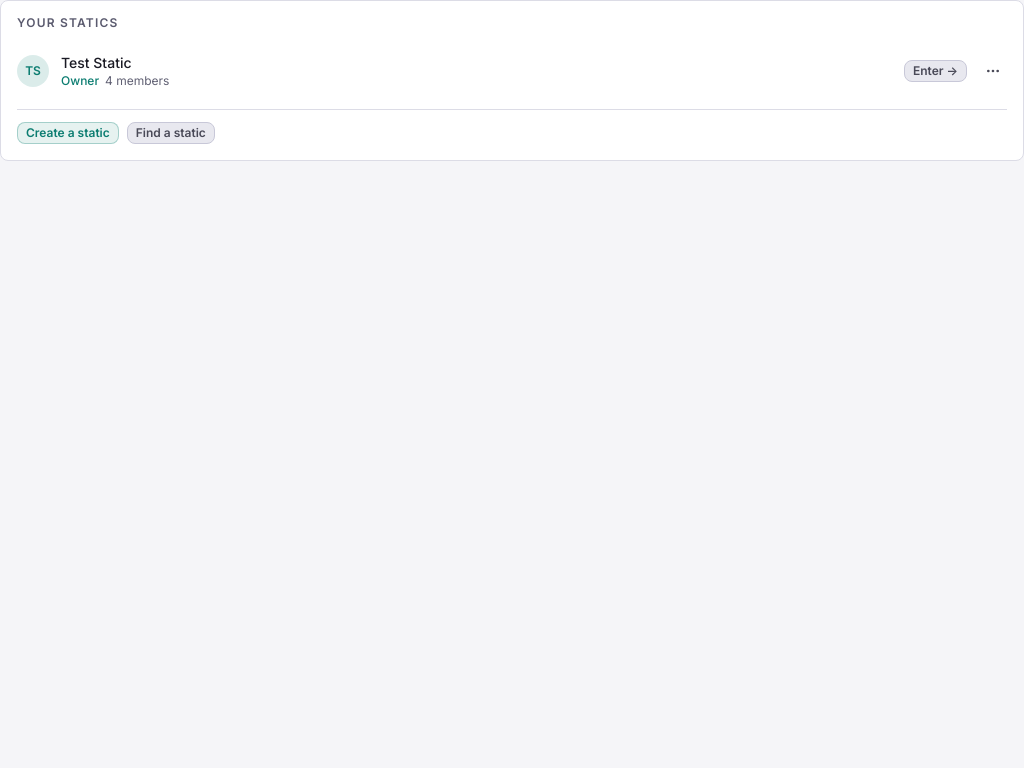
Test: YourStaticsCard — delete confirm › delete confirm button is disabled until exact name typed
The image size is (1024, 768).
Press Enter in the button named "actions for test static", box [979,57,1007,85]
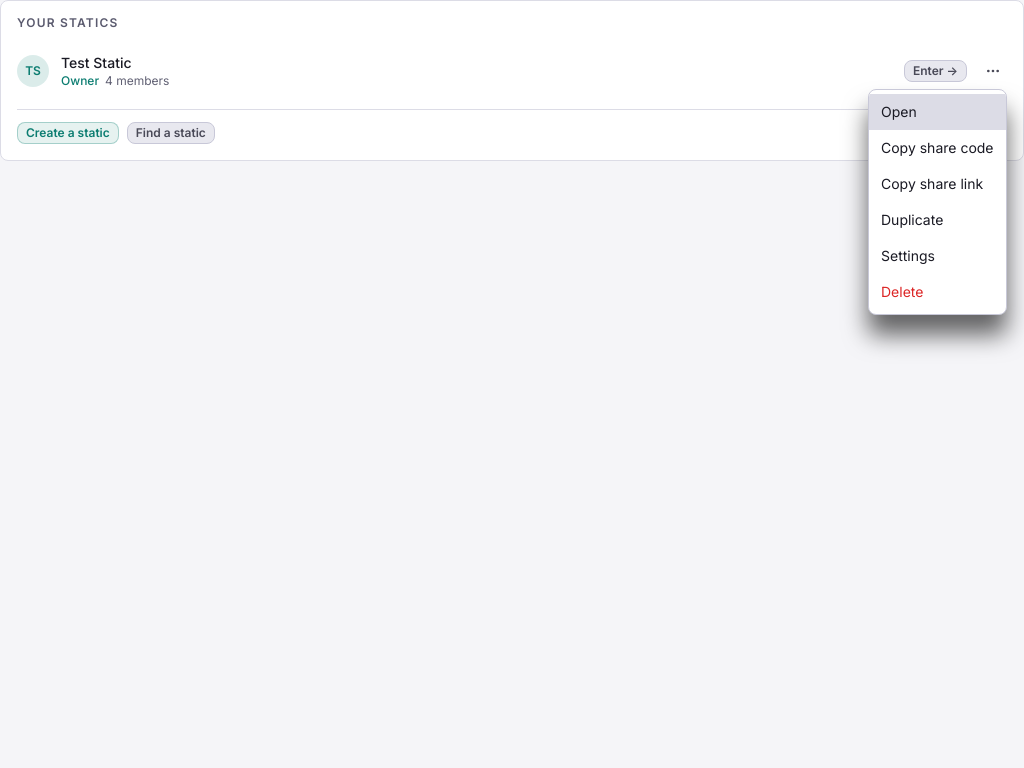
Click the menu item "Delete".
click(902, 292)  # box [881,283,923,300]
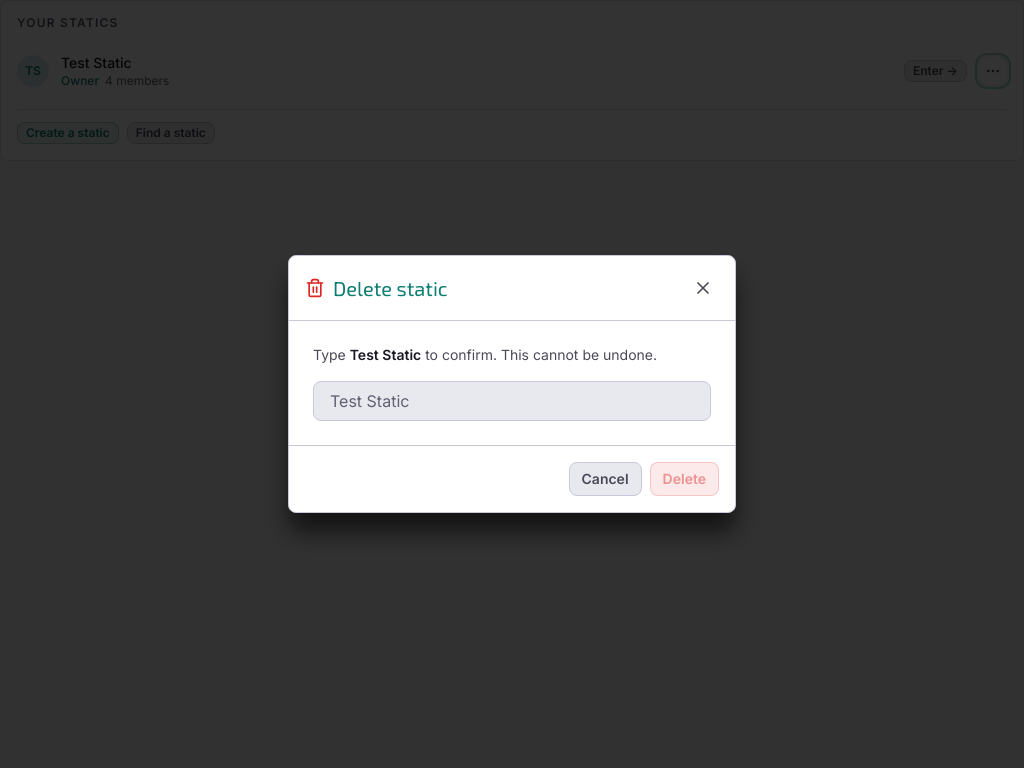
Check: the button "Delete" is disabled, box [650,462,719,496]
Note: Partial name — stays disabled
Type "Test" into the field named "confirm static name".
click(512, 401); type("Test")  # box [313,381,711,421]
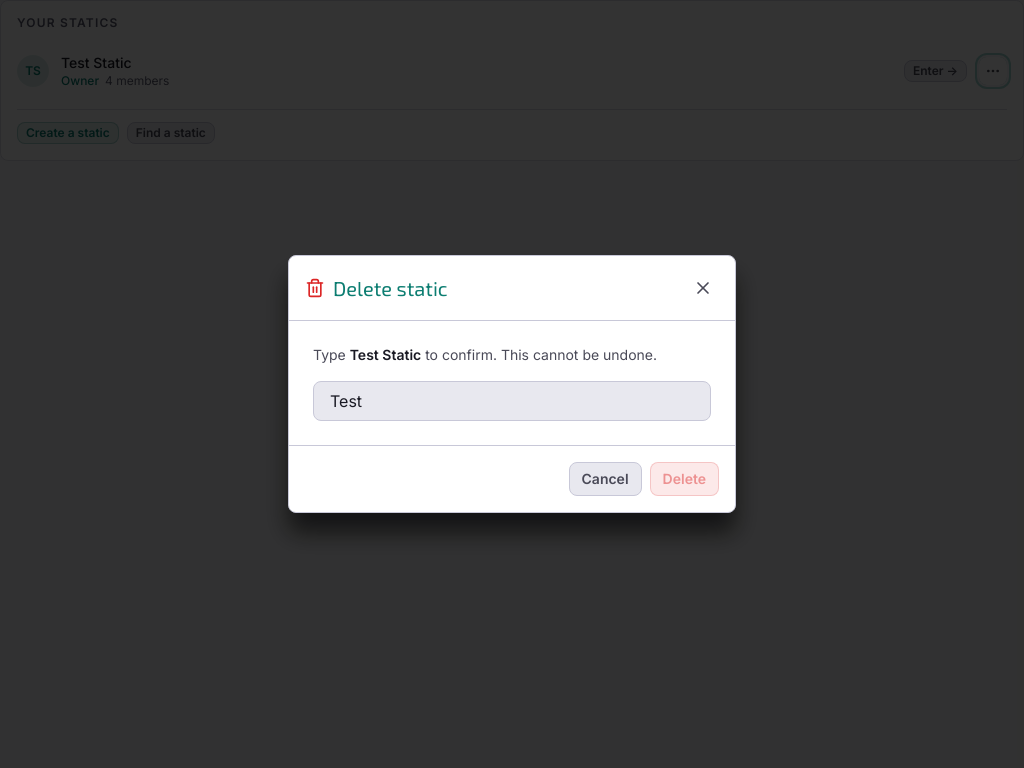
Check: the button "Delete" is disabled, box [650,462,719,496]
Note: Exact name — becomes enabled
Replace the text in the field named "confirm static name" with "Test Static" at (512, 401), box [313,381,711,421]
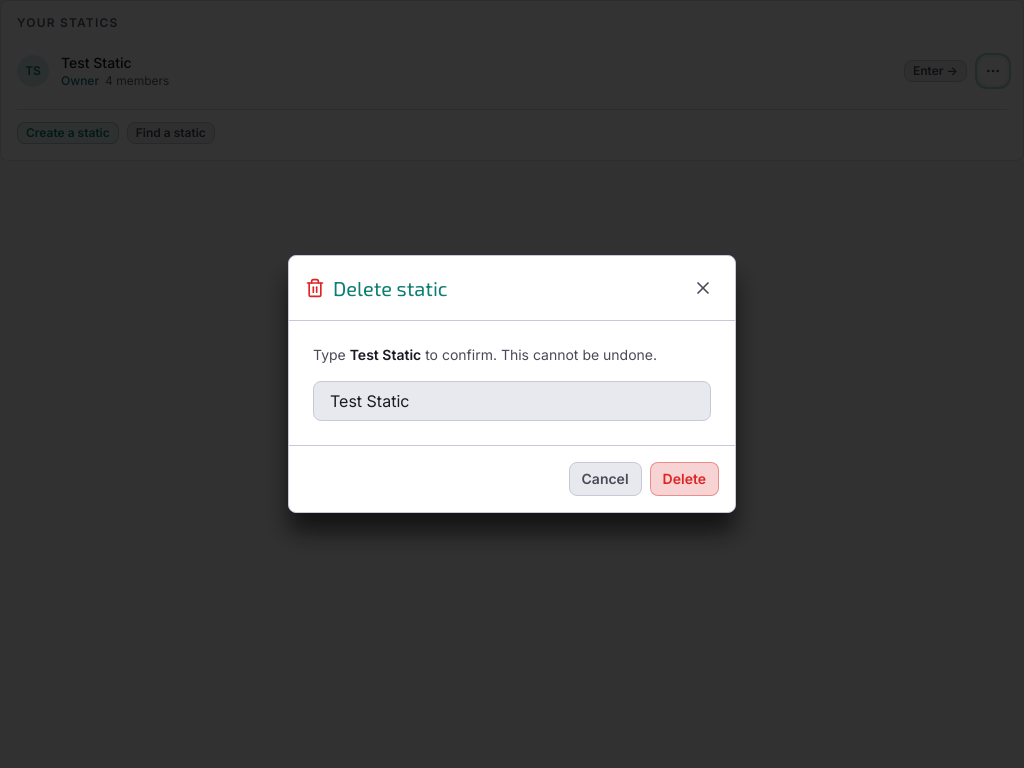
Check: the button "Delete" is enabled, box [650,462,719,496]
